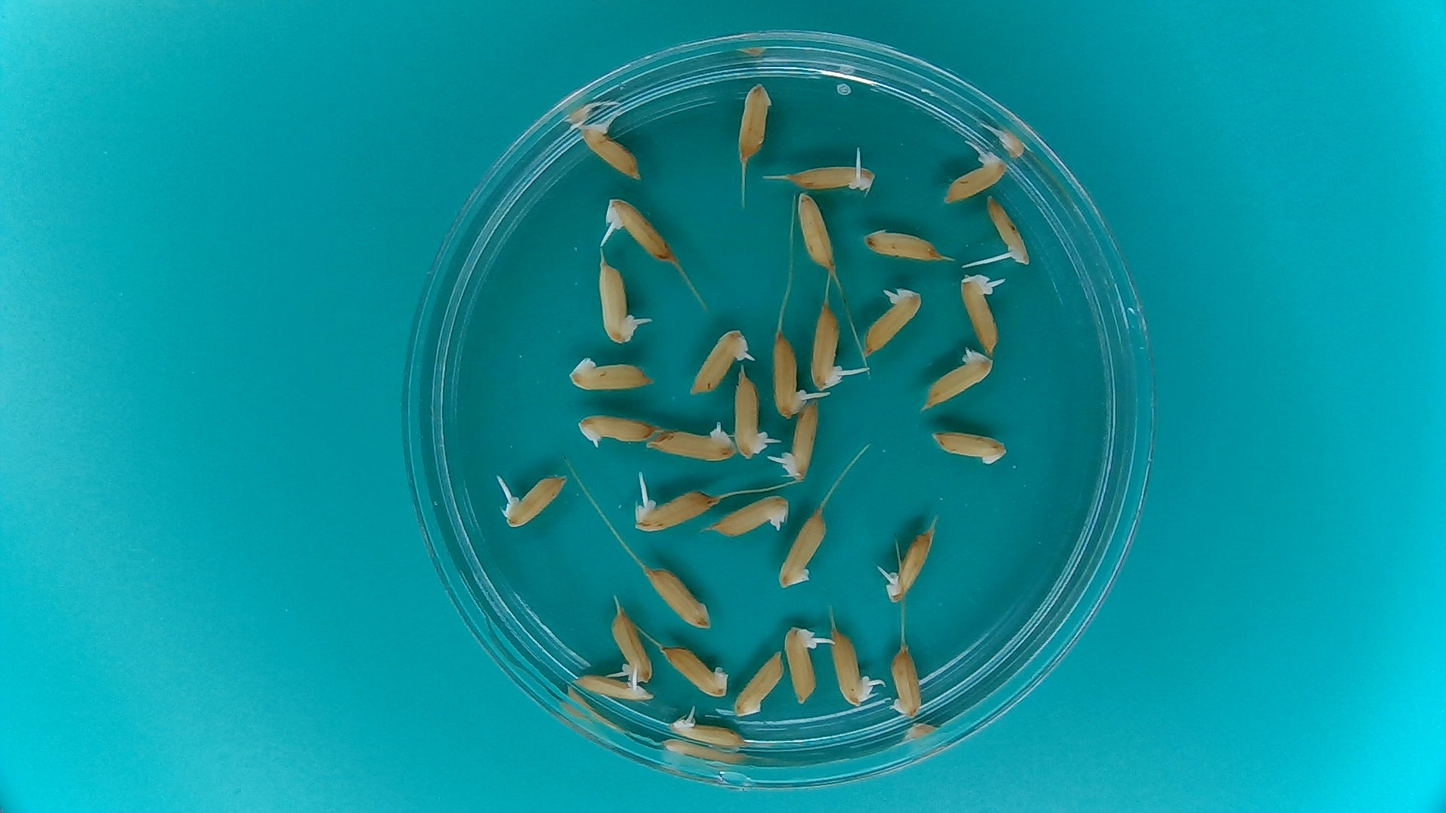no: (642, 561, 713, 629), (776, 506, 830, 592), (920, 349, 994, 408), (657, 641, 731, 697), (734, 648, 789, 719), (708, 492, 792, 536), (566, 352, 656, 393), (732, 78, 774, 164), (860, 225, 949, 264), (794, 188, 836, 269), (887, 642, 925, 721), (929, 429, 1007, 466)
yes: (862, 286, 924, 357), (609, 200, 678, 263), (577, 117, 642, 182), (687, 327, 746, 397), (885, 522, 937, 601), (596, 257, 641, 348), (643, 420, 737, 463), (731, 366, 771, 461), (985, 193, 1033, 269), (503, 476, 569, 529), (575, 410, 662, 450), (807, 300, 846, 389), (636, 489, 713, 534), (830, 630, 873, 705), (781, 400, 822, 478), (960, 276, 1001, 353), (612, 609, 655, 682), (944, 153, 1005, 202), (770, 334, 806, 416), (784, 623, 819, 706), (667, 716, 746, 752), (782, 163, 871, 194), (574, 674, 654, 705)
